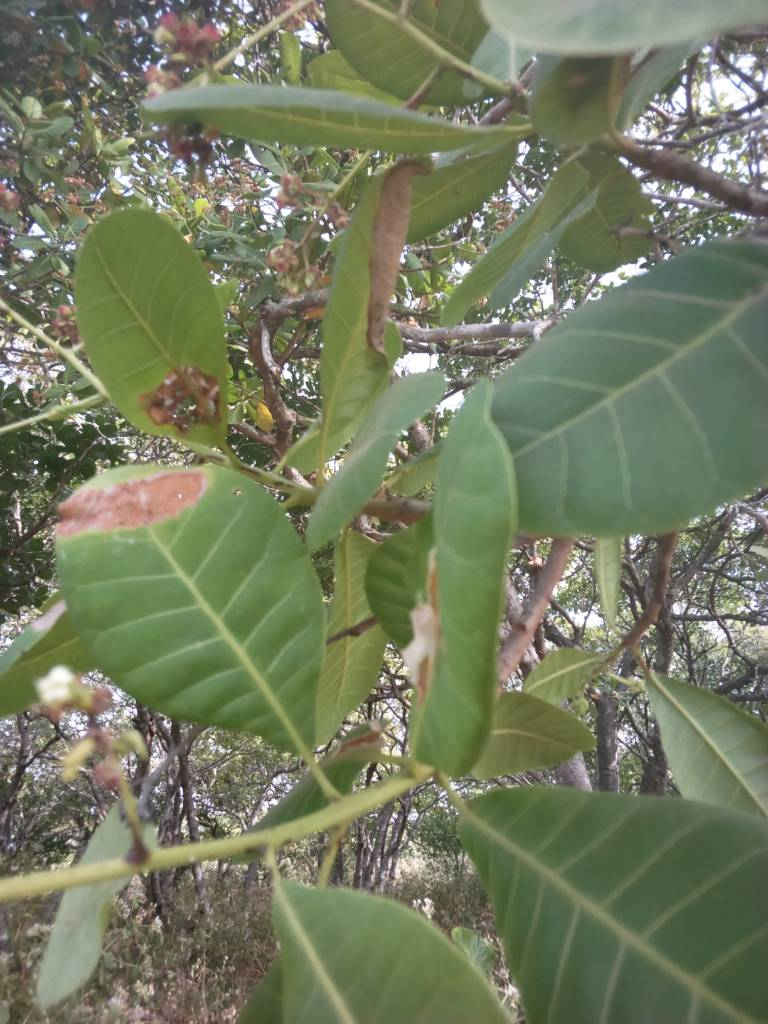Dysdercus wolkerii: (53, 454, 347, 749)
